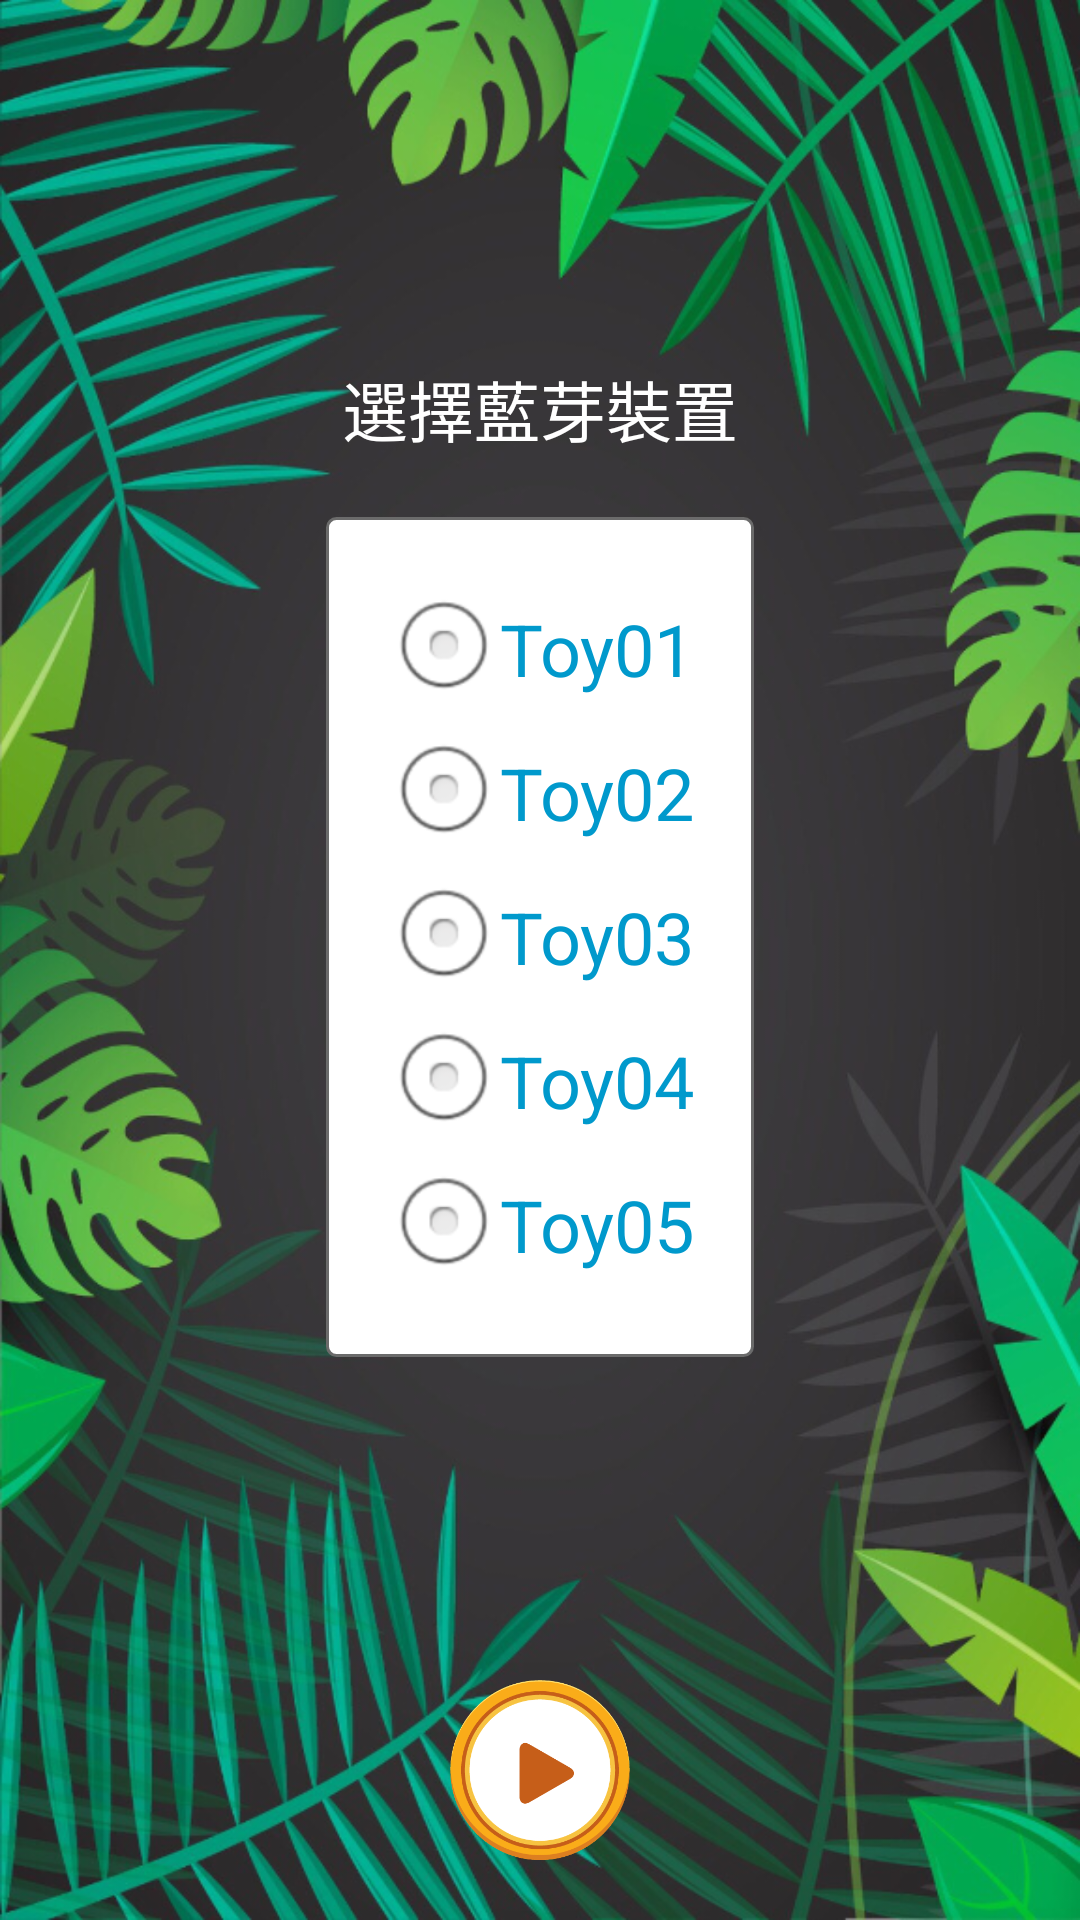

Point at icon controls on the screen. Image size 1080px×1920px, points as (x=x, y=y).
play: (x=540, y=1770)
